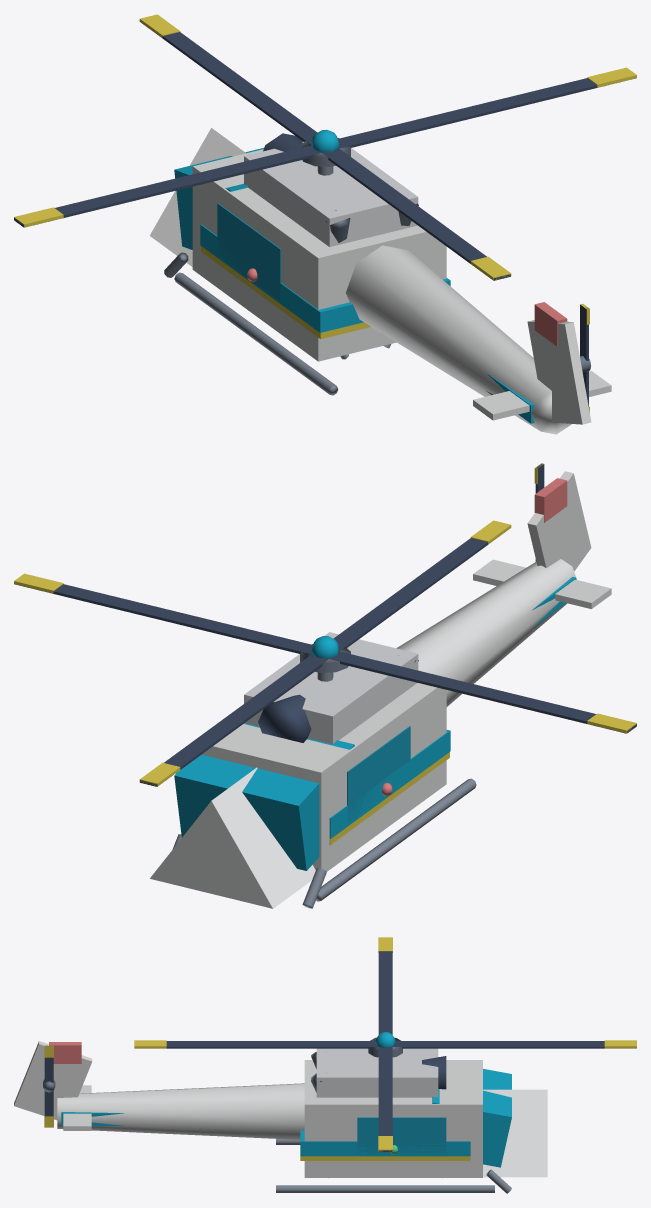
Rendered from news-chopper.glb.
The picture shows the model from 3 angles, top to bottom: view 1: azimuth 30°, elevation 25°; view 2: azimuth 150°, elevation 25°; view 3: azimuth 270°, elevation 25°; orthographic projection. The views are drawn at different scales.
Visible parts, largest first — view 1: Root; view 2: Root; view 3: Root.
Part boxes in pixels (bbox=[...]): Root: bbox=[14, 14, 636, 434]; Root: bbox=[14, 463, 636, 908]; Root: bbox=[14, 937, 636, 1193].
Bounding box in the file's own units: 12.4 × 3.74 × 15.37.
